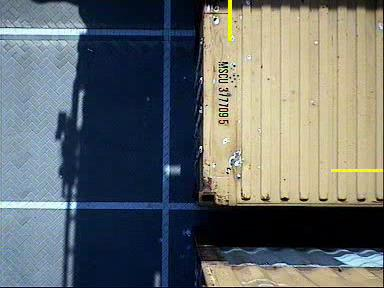groundmarker_2: (144, 58, 230, 121)
